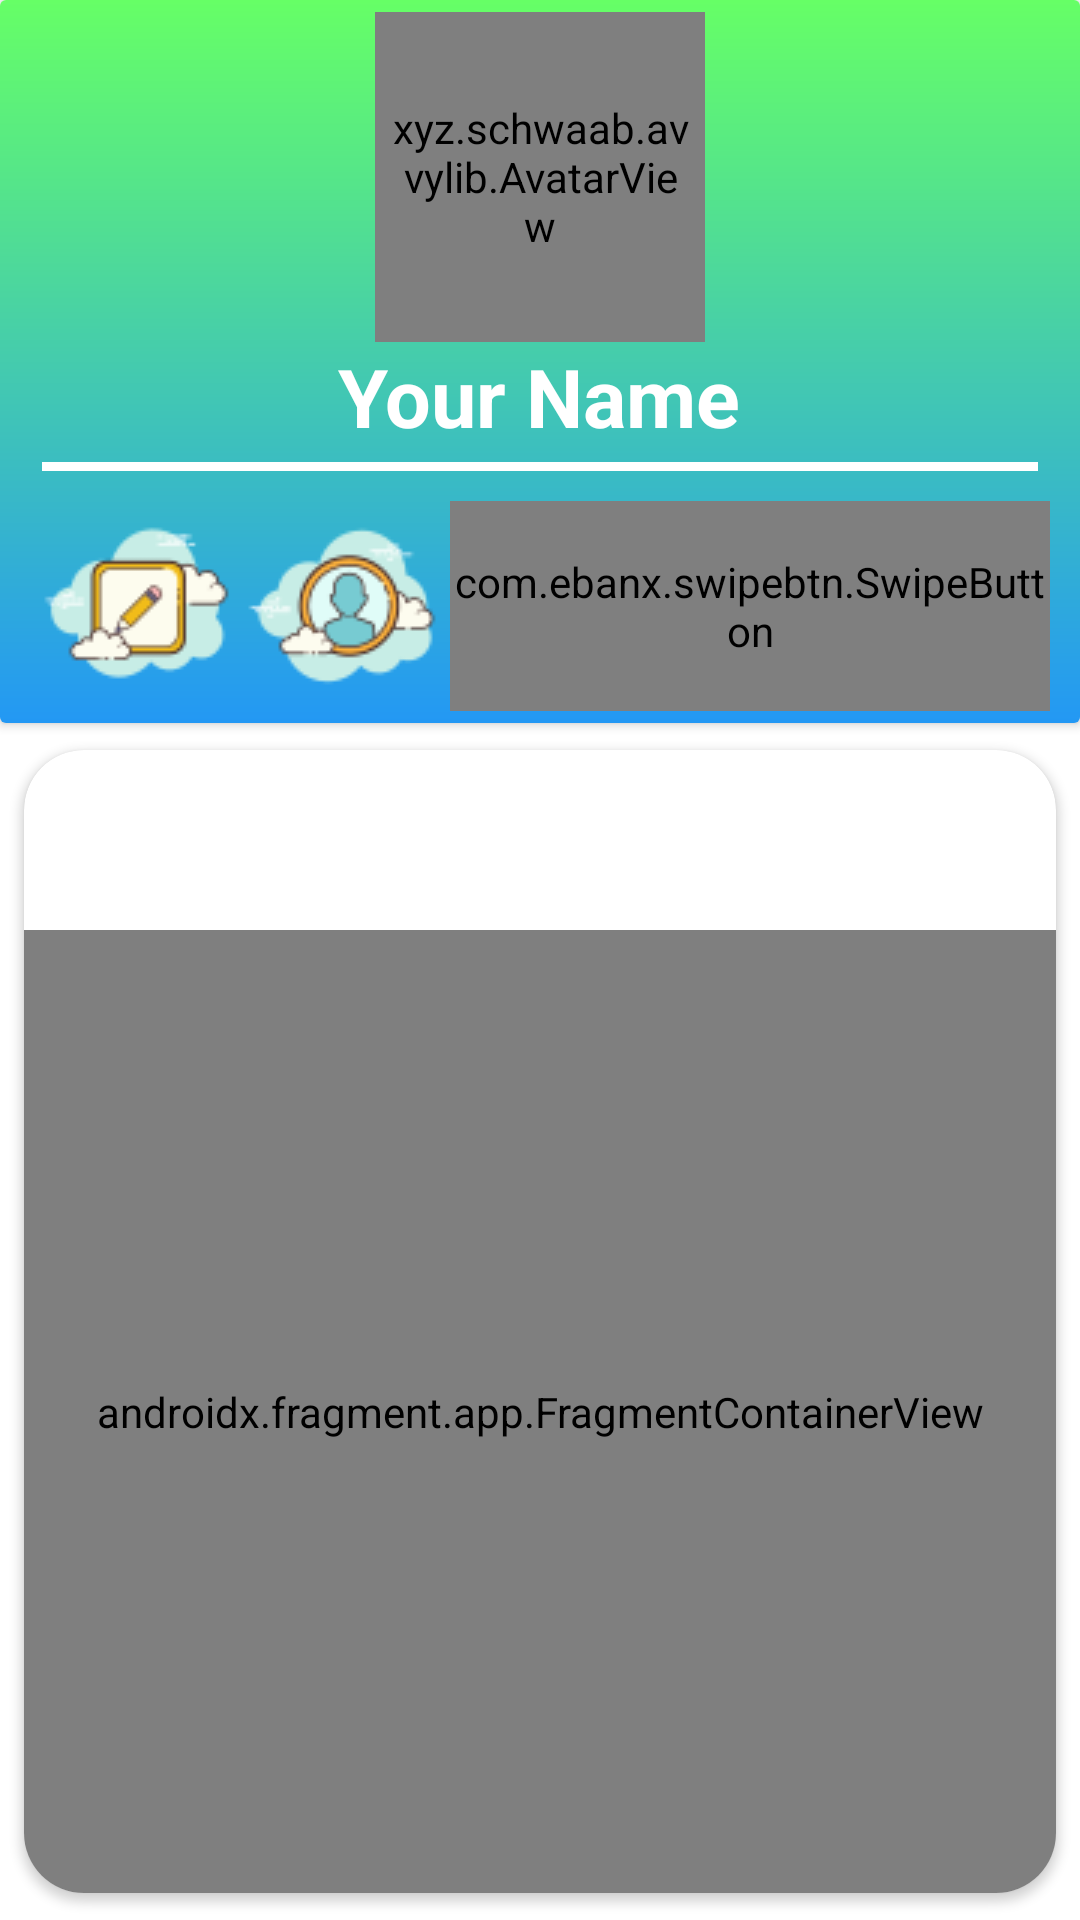

Point at icon controls on the screen. Image size 1080px x 1920px, points as [x,y].
account: [345,606]
edit: [135,606]
